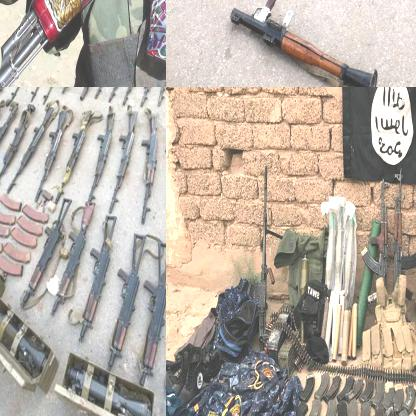rifle: (0, 0, 165, 86), (228, 0, 382, 86), (19, 199, 72, 310), (106, 234, 146, 370), (76, 216, 116, 344), (50, 203, 96, 314), (254, 164, 277, 346), (6, 107, 53, 196), (138, 239, 165, 386), (53, 110, 92, 206), (33, 107, 71, 202), (106, 112, 139, 214), (360, 178, 386, 302), (86, 112, 117, 204), (394, 169, 415, 302), (138, 114, 163, 224), (0, 108, 30, 194), (0, 104, 17, 192), (40, 87, 75, 105), (7, 87, 47, 102), (136, 87, 164, 108), (27, 87, 63, 103), (76, 87, 109, 102), (107, 87, 136, 104), (121, 87, 144, 105), (93, 87, 121, 101)
